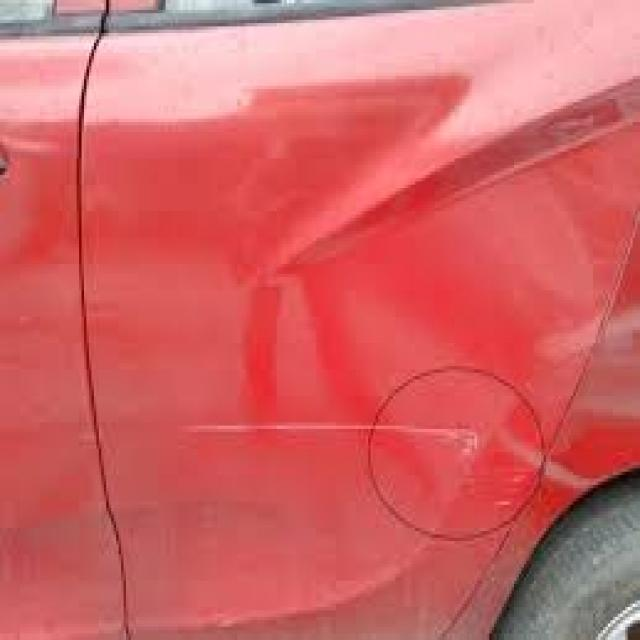dent-or-scratch: (184, 410, 493, 464)
